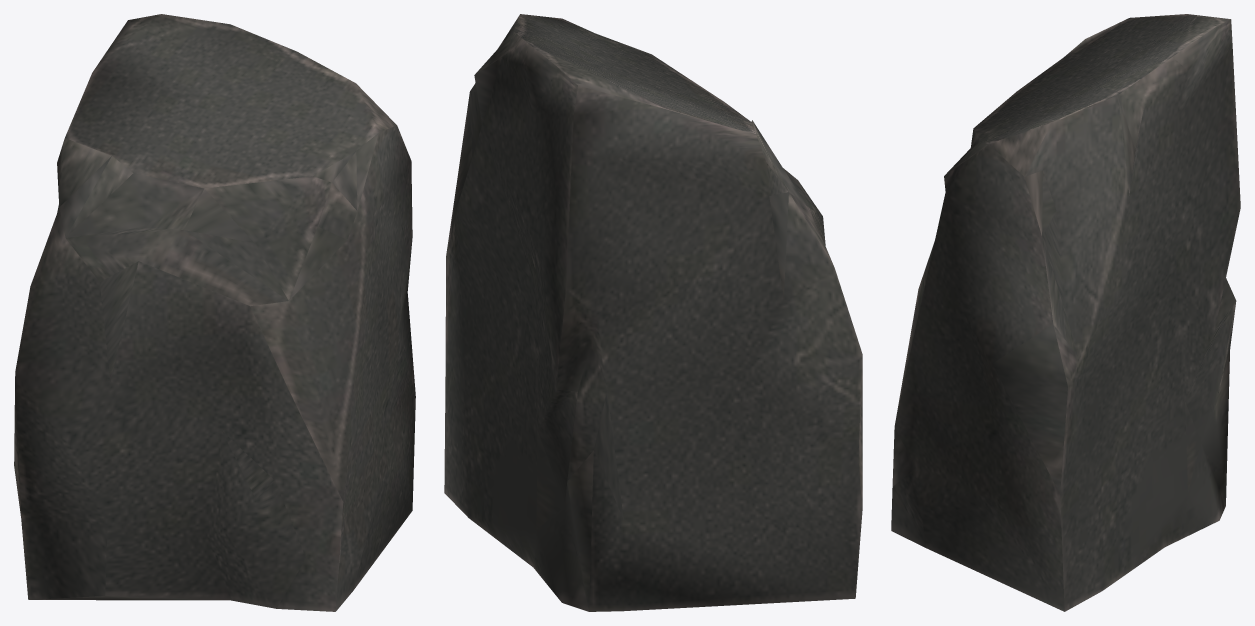
The model's file is cliff_stone_tall_b.gltf.
3 views of the same model, side by side, from view 1: azimuth 30°, elevation 25°; view 2: azimuth 150°, elevation 25°; view 3: azimuth 270°, elevation 25° (orthographic). The views are drawn at different scales.
Parts seen in each view (by area): view 1: cliff_stone_tall_b; view 2: cliff_stone_tall_b; view 3: cliff_stone_tall_b.
Boxes of the visible parts, x1,y1,x2,y2 form: cliff_stone_tall_b: (14,14,415,611); cliff_stone_tall_b: (444,14,862,611); cliff_stone_tall_b: (891,14,1240,611).
Size of the model in its own units: 1.16 by 1.38 by 0.88.
Materials: 1 (1 with a texture image).
